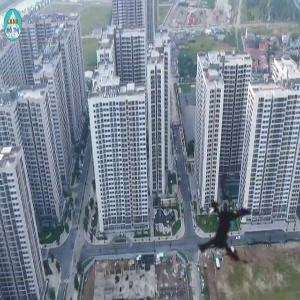drone: (158, 159, 297, 298)
